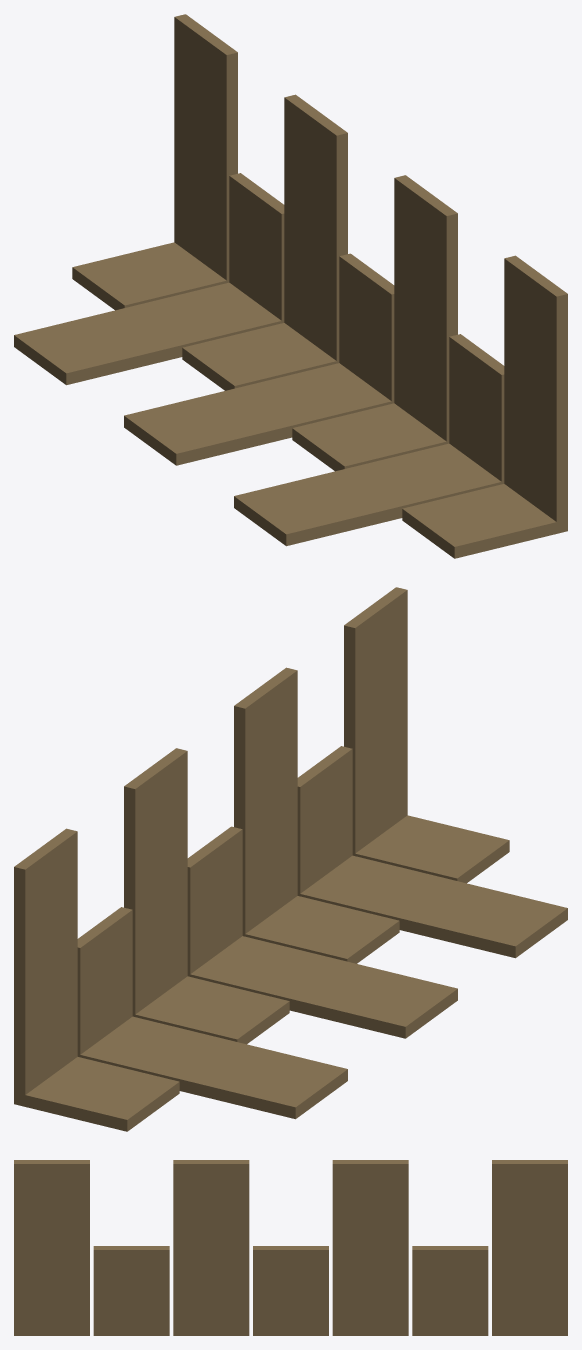
File: corner04.fbx
3 renders of one model, top to bottom at view 1: azimuth 30°, elevation 25°; view 2: azimuth 150°, elevation 25°; view 3: azimuth 270°, elevation 25°, orthographic. The views are drawn at different scales.
Parts seen in each view (by area): view 1: Cube.002; view 2: Cube.002; view 3: Cube.002.
Part boxes in pixels (left/top/right/bottom): Cube.002: left=14, top=14, right=567, bottom=558; Cube.002: left=14, top=587, right=567, bottom=1131; Cube.002: left=14, top=1160, right=567, bottom=1335.
Bounding box in the file's own units: 100 × 100 × 292.
